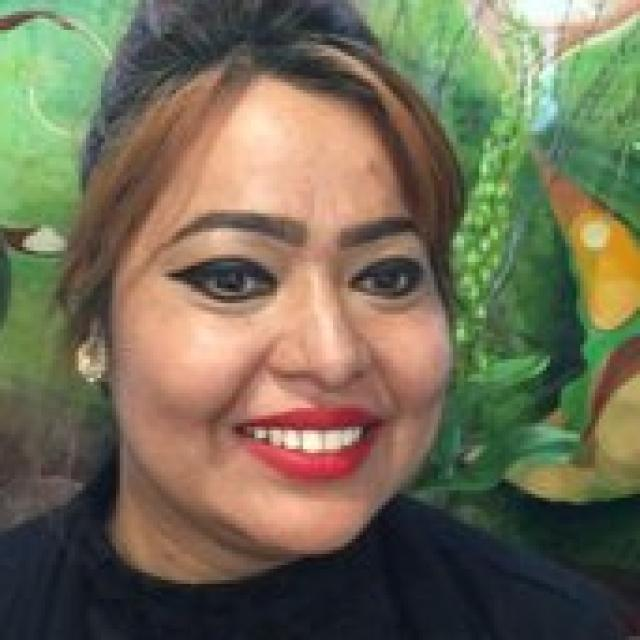Normal: (106, 68, 458, 550)
